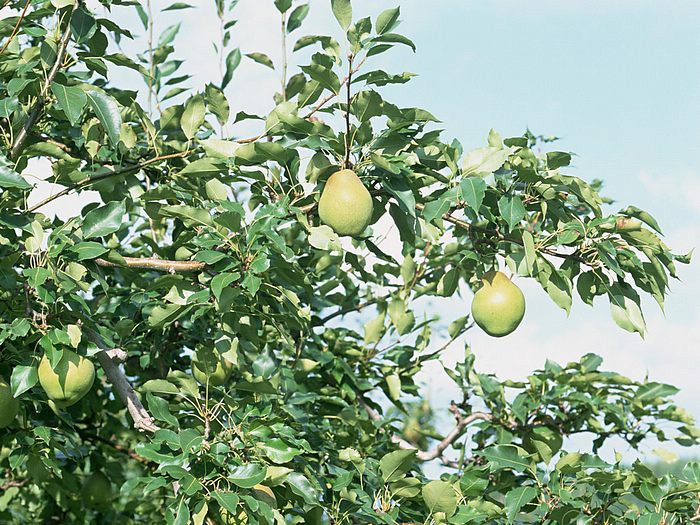pear: (316, 169, 375, 239), (37, 337, 94, 405), (471, 271, 526, 339)
